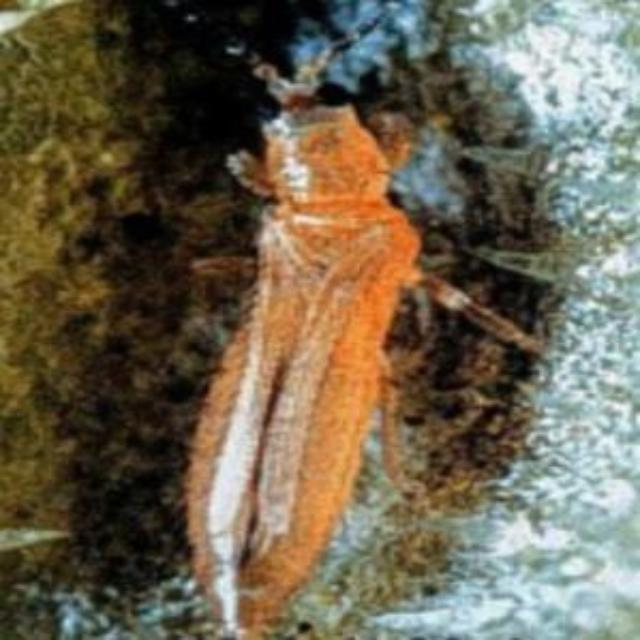melon thrips: (70, 18, 516, 640)
